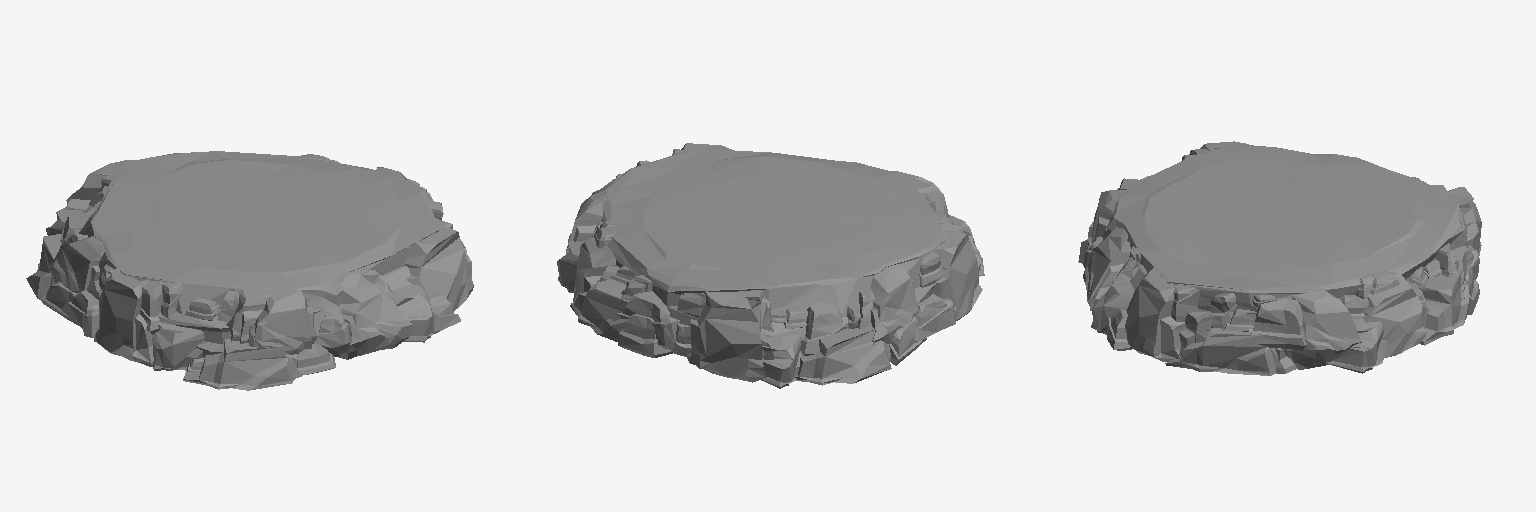
Rendered from SM_Env_Cliff.obj.
3 renders of one model, left to right at view 1: azimuth 30°, elevation 25°; view 2: azimuth 150°, elevation 25°; view 3: azimuth 270°, elevation 25°, orthographic.
Parts seen in each view (by area): view 1: SM_Env_Cliff; view 2: SM_Env_Cliff; view 3: SM_Env_Cliff.
Part boxes in pixels (bbox=[...]): SM_Env_Cliff: bbox=[26, 151, 473, 390]; SM_Env_Cliff: bbox=[557, 143, 984, 388]; SM_Env_Cliff: bbox=[1078, 141, 1481, 375].
Bounding box in the file's own units: 22.69 × 4.88 × 22.13.